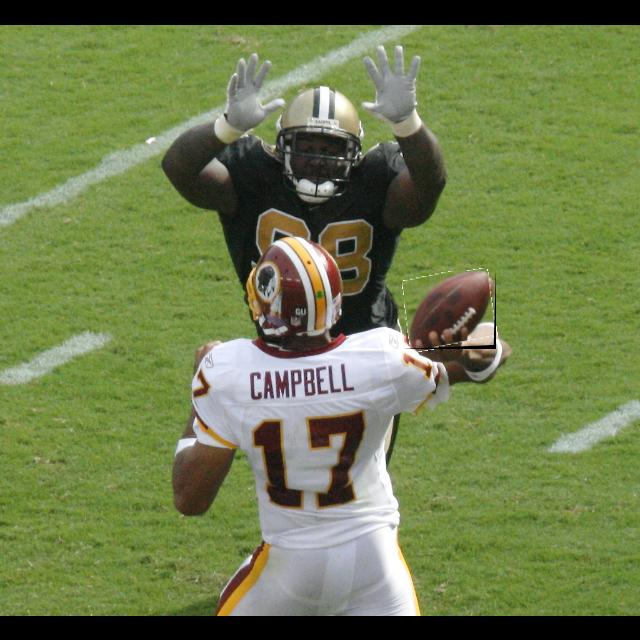Football: (404, 271, 496, 349)
